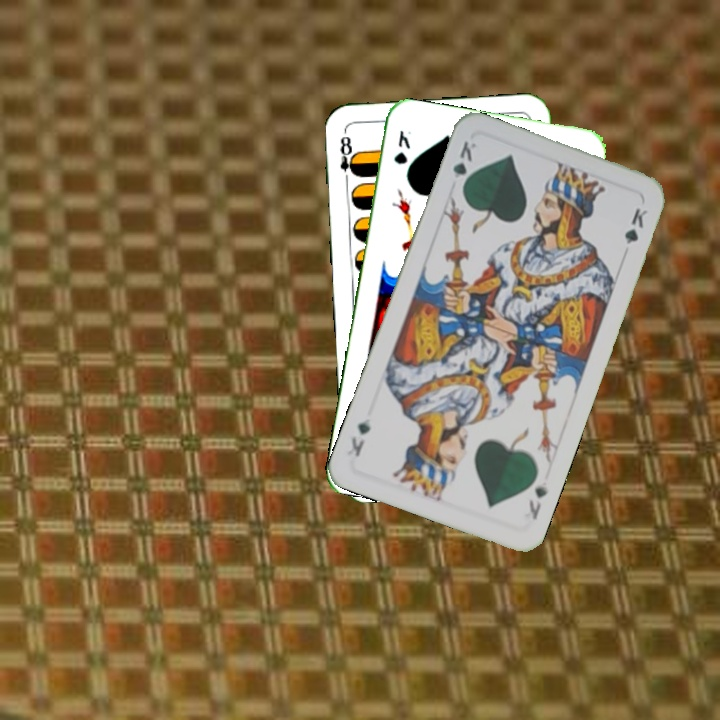E8: (335, 128, 360, 187)
GK: (449, 136, 479, 194), (525, 482, 550, 522), (390, 127, 413, 167)
